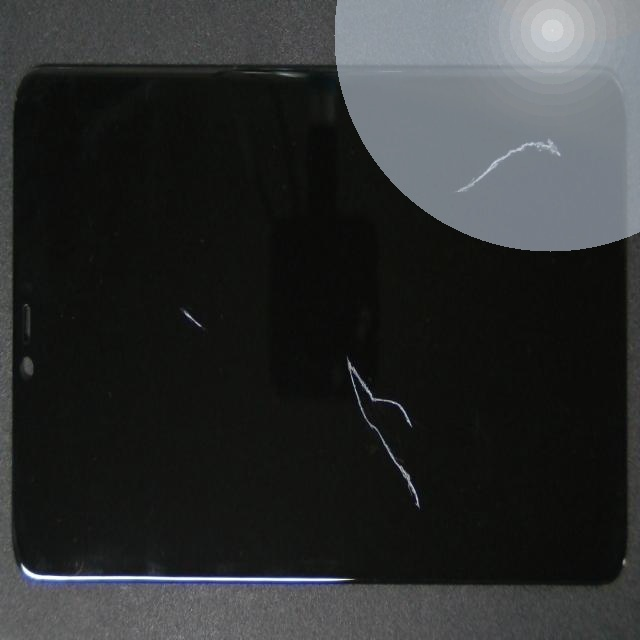scratch: (248, 253, 594, 589), (134, 164, 306, 456), (304, 98, 640, 214)
